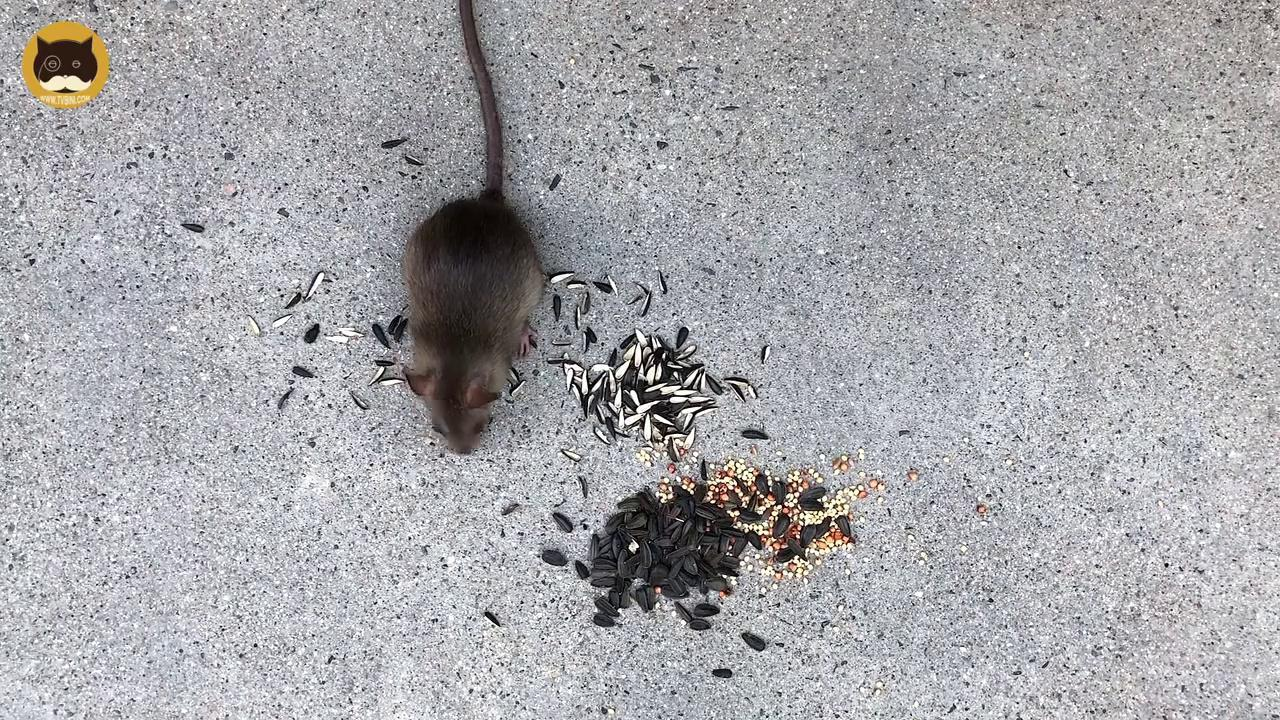rat: (403, 0, 546, 456)
